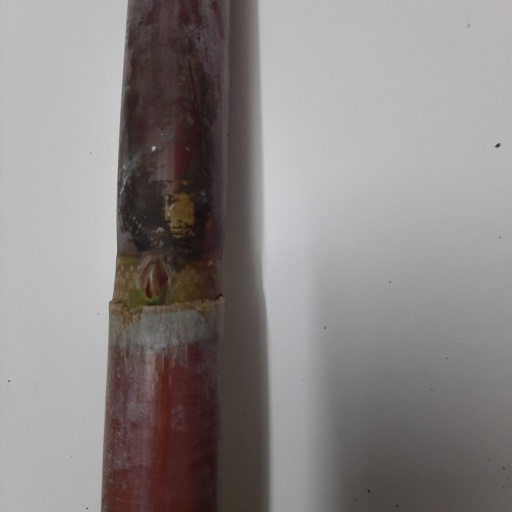Bud: (138, 259, 167, 302)
